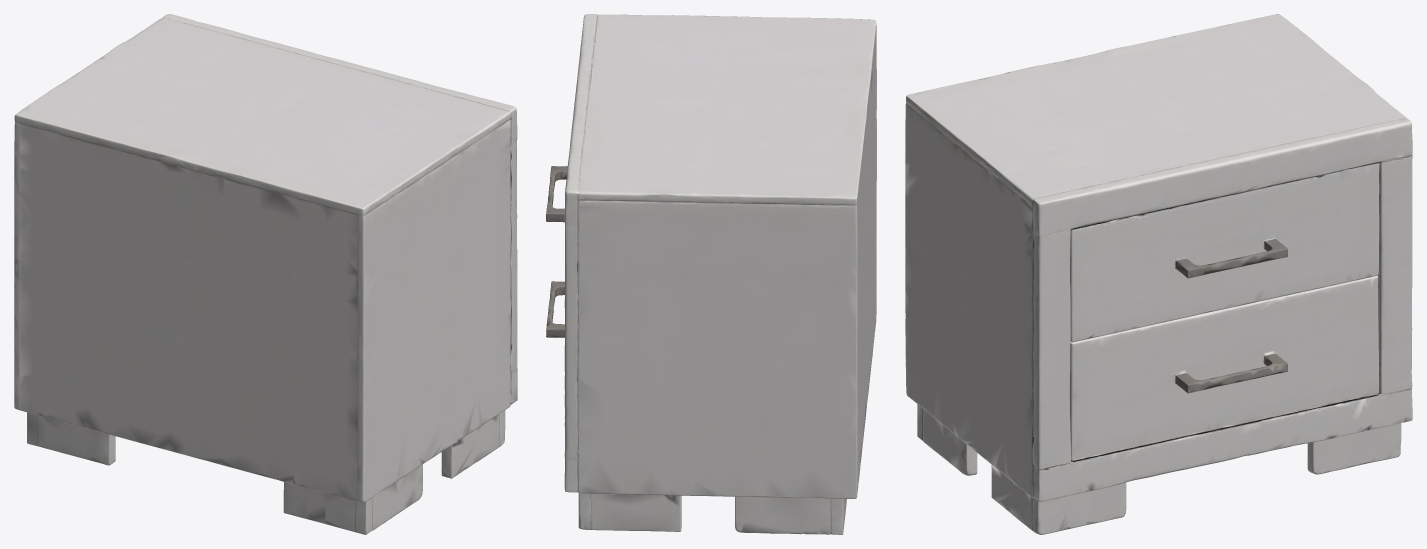
Rendered from homedepot-com-p-coaster-2-drawer-white-jessica-nightstand-20-91e6c5.glb.
3 renders of one model, left to right at view 1: azimuth 30°, elevation 25°; view 2: azimuth 150°, elevation 25°; view 3: azimuth 270°, elevation 25°, orthographic. The views are drawn at different scales.
Parts seen in each view (by area): view 1: tripo_node_b7da13bb-9b7d-4f7d-8d79-b45b2c887dd7; view 2: tripo_node_b7da13bb-9b7d-4f7d-8d79-b45b2c887dd7; view 3: tripo_node_b7da13bb-9b7d-4f7d-8d79-b45b2c887dd7.
Boxes of the visible parts, x1,y1,x2,y2 form: tripo_node_b7da13bb-9b7d-4f7d-8d79-b45b2c887dd7: (14,14,517,534); tripo_node_b7da13bb-9b7d-4f7d-8d79-b45b2c887dd7: (546,14,876,534); tripo_node_b7da13bb-9b7d-4f7d-8d79-b45b2c887dd7: (905,14,1412,534).
Bounding box in the file's own units: 1.07 × 0.8851 × 1.2.
Materials: 1 (1 with a texture image).
